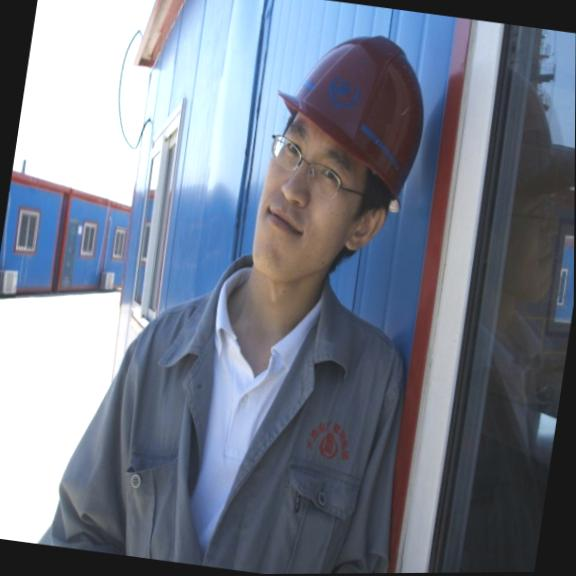no_safety_vest: (47, 249, 435, 576)
